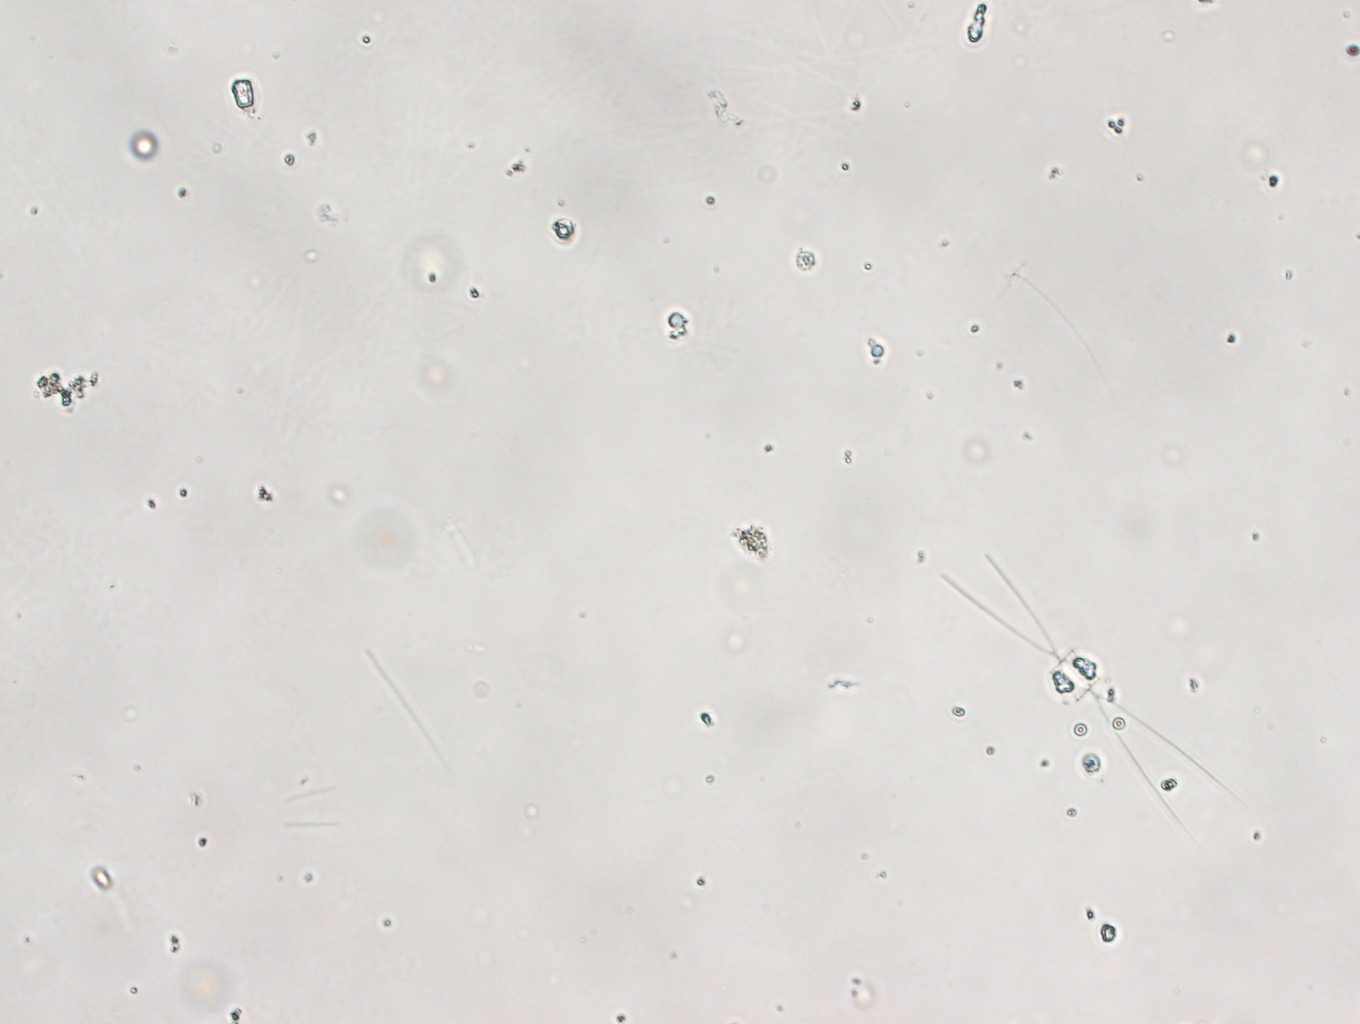chaetoceros: (939, 555, 1242, 840)
